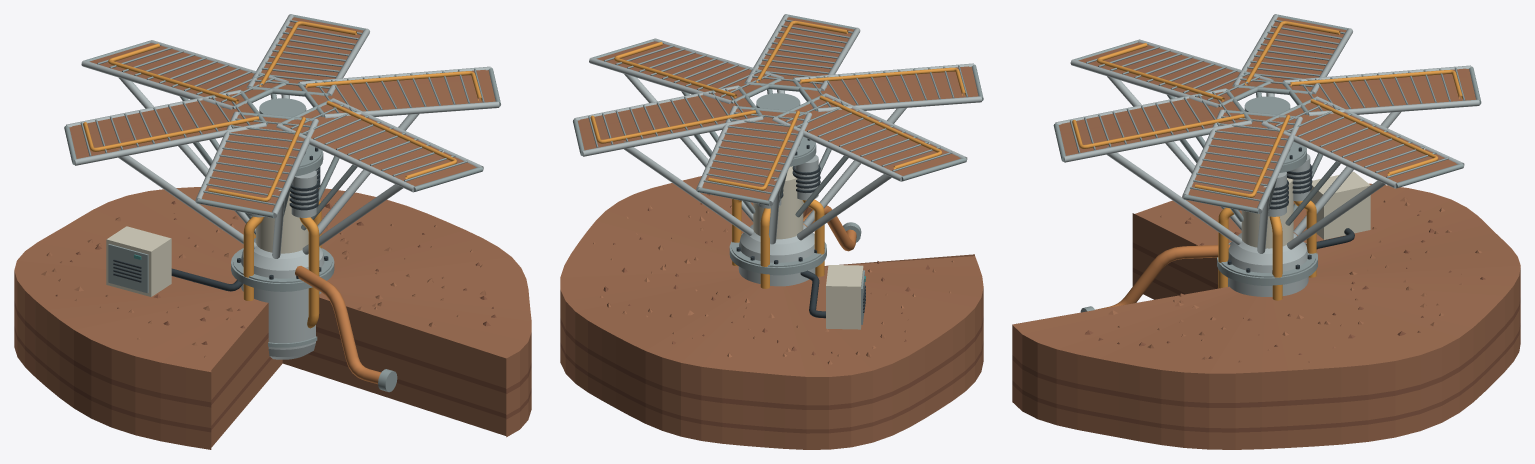
File: p1_umbrella_dust.glb
3 renders of one model, left to right at view 1: azimuth 30°, elevation 25°; view 2: azimuth 150°, elevation 25°; view 3: azimuth 270°, elevation 25°, orthographic. The views are drawn at different scales.
Parts seen in each view (by area): view 1: Regolith plinth, Wing 1, Wing 3, Wing 2, Wing 6, Wing 4, Converter head, Heat service and controls, Wing 5, Buried module; view 2: Regolith plinth, Wing 3, Wing 5, Wing 4, Wing 2, Wing 6, Converter head, Wing 1, Heat service and controls, Buried module; view 3: Regolith plinth, Wing 5, Wing 1, Wing 6, Wing 4, Wing 2, Converter head, Wing 3, Heat service and controls, Buried module.
Boxes of the visible parts, x1=… form: Regolith plinth: x1=14, y1=187, x2=531, y2=449; Wing 1: x1=276, y1=98, x2=483, y2=254; Wing 3: x1=64, y1=89, x2=267, y2=248; Wing 2: x1=195, y1=111, x2=318, y2=258; Wing 6: x1=298, y1=66, x2=500, y2=235; Wing 4: x1=81, y1=40, x2=288, y2=234; Converter head: x1=231, y1=98, x2=334, y2=328; Heat service and controls: x1=106, y1=226, x2=397, y2=392; Wing 5: x1=246, y1=14, x2=369, y2=99; Buried module: x1=241, y1=238, x2=324, y2=359; Regolith plinth: x1=560, y1=176, x2=983, y2=449; Wing 3: x1=772, y1=93, x2=967, y2=240; Wing 5: x1=573, y1=85, x2=764, y2=235; Wing 4: x1=696, y1=105, x2=811, y2=244; Wing 2: x1=792, y1=63, x2=983, y2=226; Wing 6: x1=589, y1=38, x2=783, y2=221; Converter head: x1=729, y1=93, x2=826, y2=288; Wing 1: x1=744, y1=14, x2=860, y2=94; Heat service and controls: x1=800, y1=205, x2=865, y2=329; Buried module: x1=738, y1=224, x2=815, y2=286; Regolith plinth: x1=1012, y1=183, x2=1520, y2=449; Wing 5: x1=1261, y1=96, x2=1464, y2=249; Wing 1: x1=1053, y1=88, x2=1253, y2=244; Wing 6: x1=1182, y1=109, x2=1302, y2=253; Wing 4: x1=1282, y1=65, x2=1481, y2=235; Wing 2: x1=1070, y1=39, x2=1273, y2=230; Converter head: x1=1217, y1=96, x2=1317, y2=300; Wing 3: x1=1232, y1=14, x2=1352, y2=97; Heat service and controls: x1=1080, y1=171, x2=1370, y2=312; Buried module: x1=1228, y1=233, x2=1308, y2=296.
Bounding box in the file's own units: 5.86 × 3.62 × 6.42.
